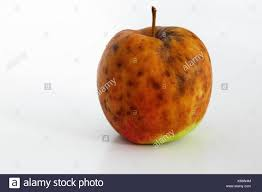damaged_apple: (90, 15, 229, 150)
